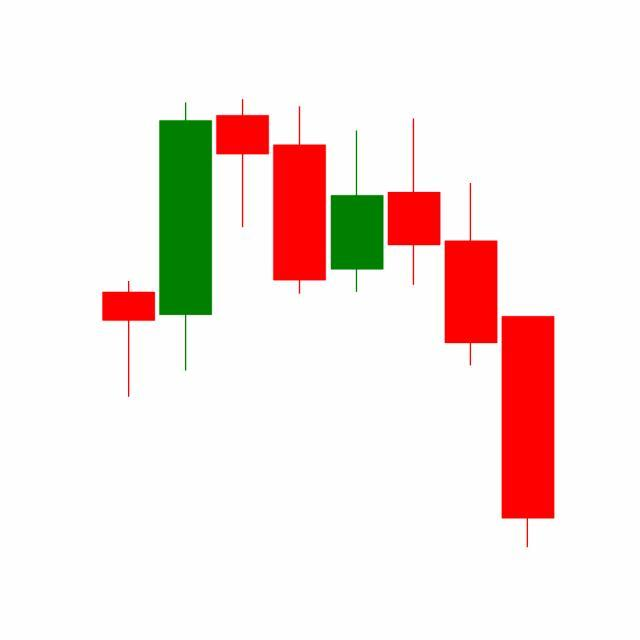Hikkake Pattern: (214, 99, 501, 370)
